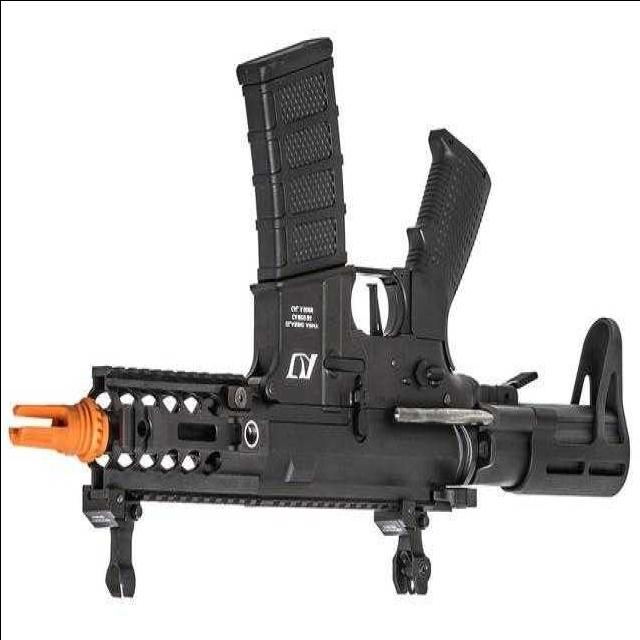heavyweapon: (10, 49, 635, 623)
